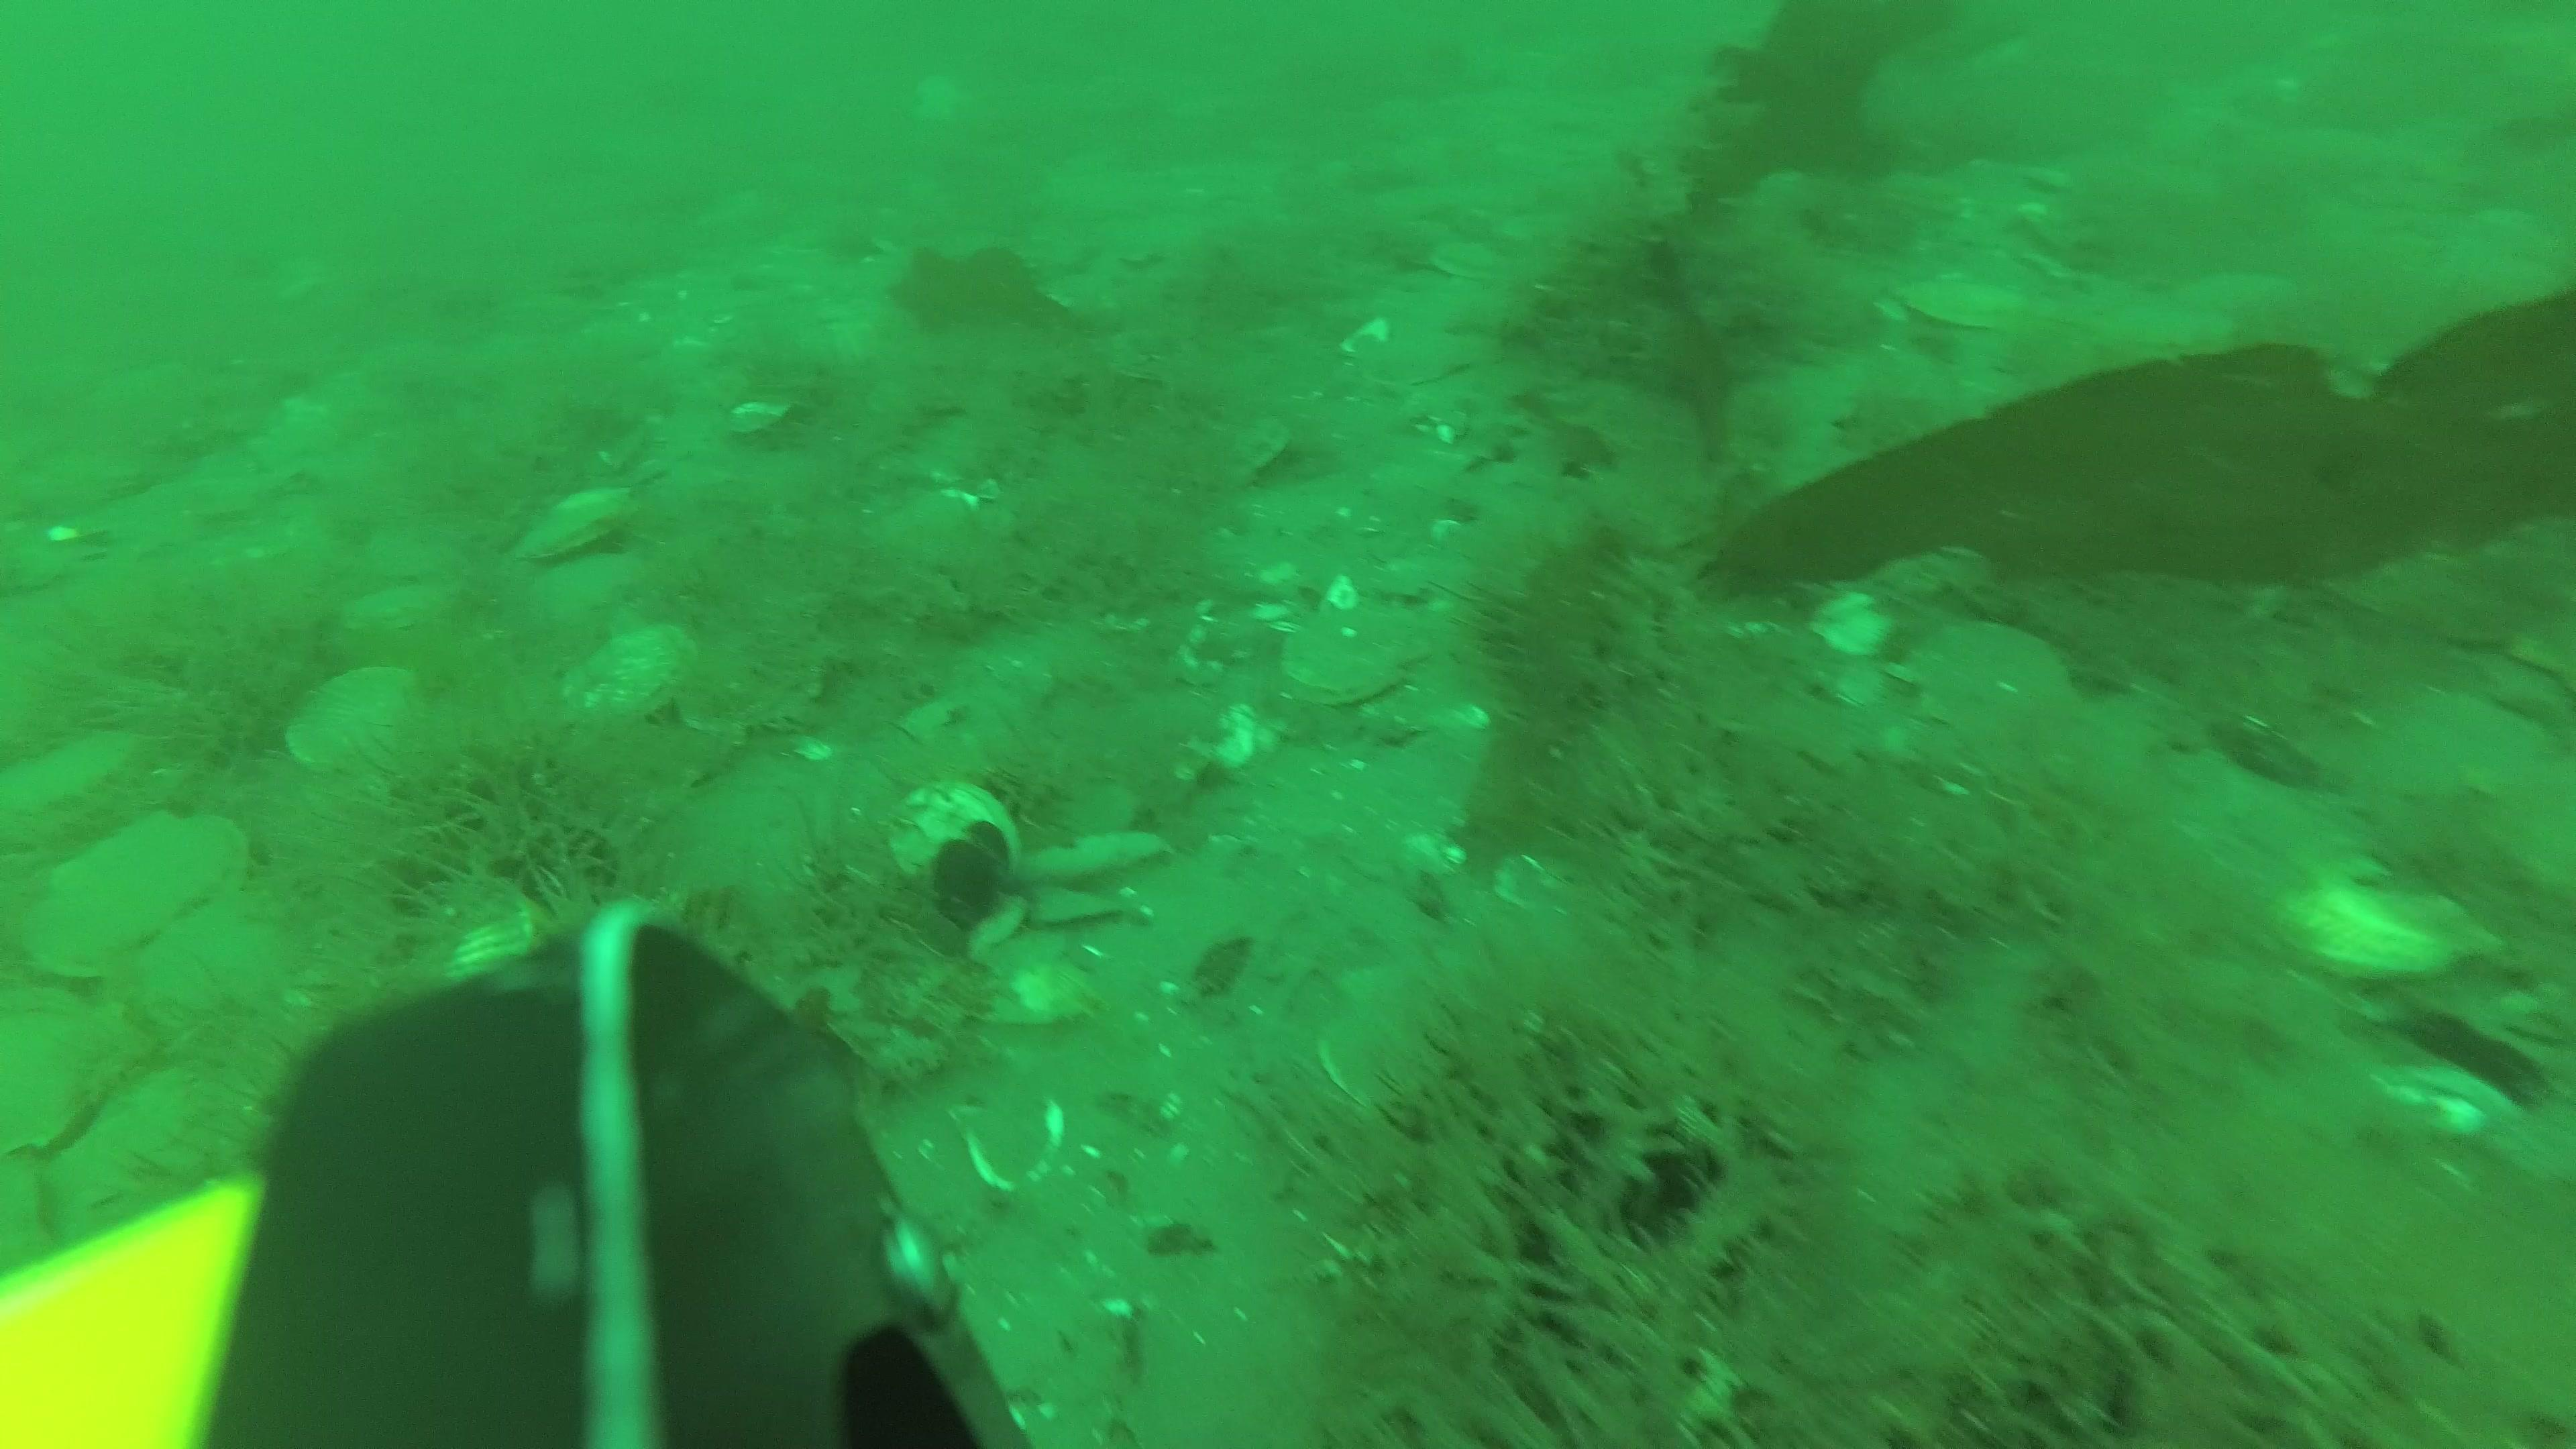scallop: (42, 805, 248, 982), (7, 962, 150, 1164), (2291, 869, 2491, 982), (1323, 970, 1463, 1125), (1909, 610, 2068, 736), (5, 720, 150, 844), (1283, 609, 1426, 711), (299, 665, 418, 773), (579, 625, 699, 727), (1897, 253, 2017, 343), (522, 488, 640, 571)
